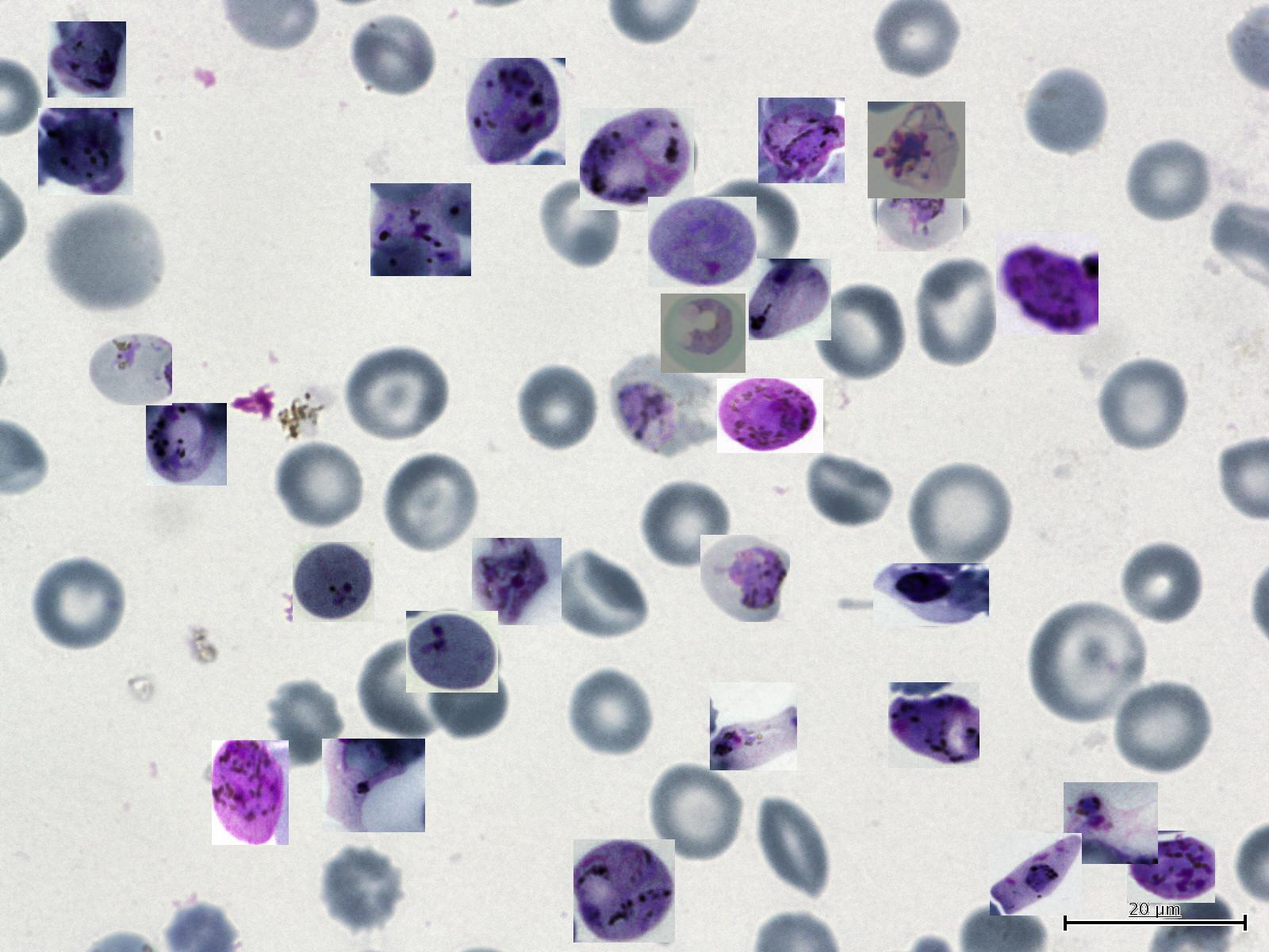Infected: (581, 108, 695, 210), (466, 58, 565, 165), (996, 232, 1098, 335), (573, 839, 675, 942), (609, 354, 714, 454), (648, 197, 757, 287), (322, 739, 425, 832), (370, 183, 471, 276), (868, 102, 965, 198), (38, 108, 133, 195), (212, 740, 289, 845), (717, 378, 823, 453), (888, 682, 980, 768), (700, 535, 790, 622), (472, 538, 562, 625), (1064, 782, 1158, 864), (710, 682, 797, 770), (990, 833, 1082, 916), (406, 611, 498, 693), (877, 165, 963, 251), (758, 98, 845, 183), (873, 563, 989, 626), (89, 323, 172, 405), (146, 403, 227, 486), (661, 294, 746, 373), (749, 259, 831, 340), (293, 542, 374, 622), (1127, 831, 1215, 903), (48, 21, 126, 98)
Uninfected: (1035, 606, 1148, 720), (55, 209, 162, 313), (907, 463, 1010, 569), (912, 258, 1003, 367), (1112, 678, 1213, 776), (383, 452, 479, 555), (347, 347, 449, 443), (648, 763, 744, 864), (545, 548, 648, 641), (812, 282, 907, 382), (31, 555, 127, 652), (361, 641, 452, 743), (1097, 356, 1188, 454), (274, 439, 366, 531), (641, 478, 732, 570), (756, 795, 835, 898), (566, 666, 654, 758), (1022, 65, 1110, 157), (537, 175, 623, 269), (700, 181, 796, 265), (1125, 136, 1212, 224), (867, 0, 959, 83), (320, 845, 406, 933), (350, 12, 438, 98), (1118, 541, 1205, 627), (516, 364, 600, 453), (266, 678, 346, 766), (804, 451, 894, 528), (427, 658, 509, 739)
